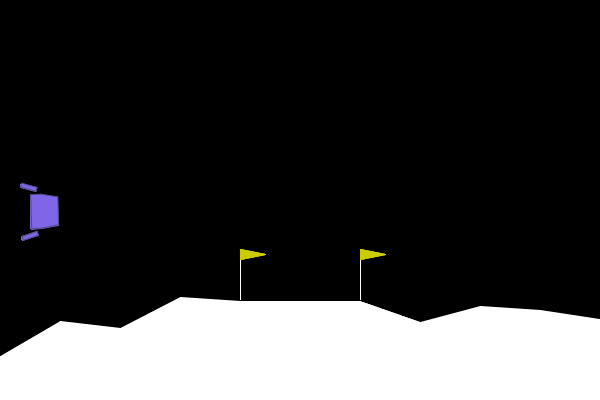lander: (19, 181, 61, 242)
